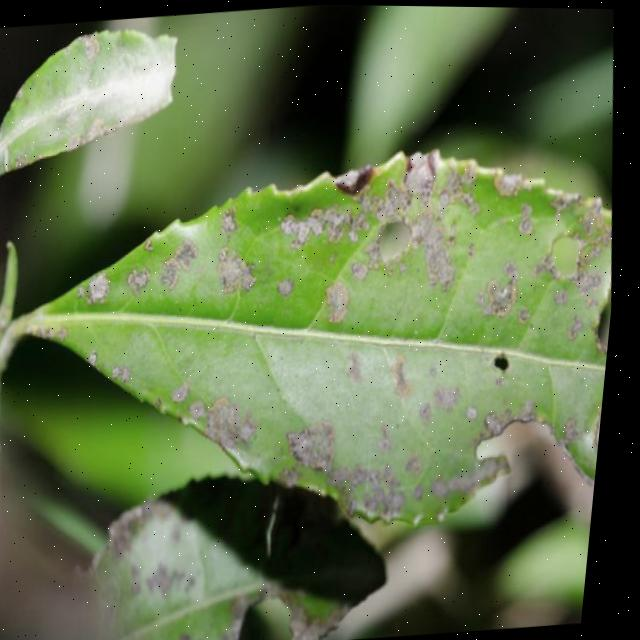Tea red rust: (57, 165, 628, 537)
